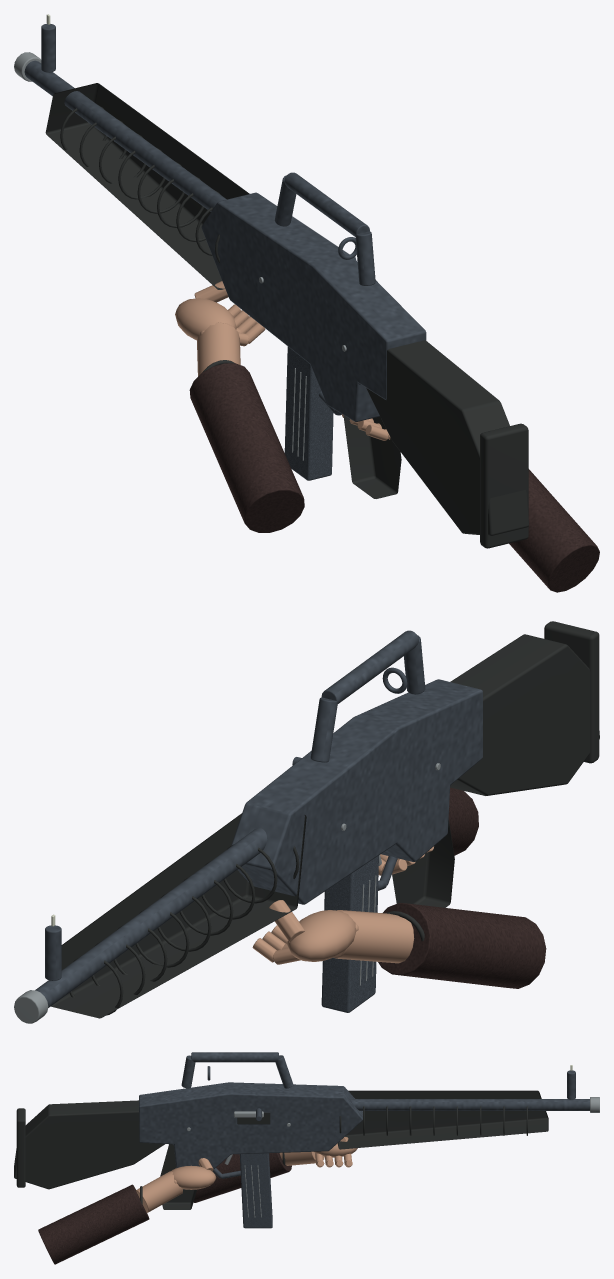
3 renders of one model, top to bottom at view 1: azimuth 30°, elevation 25°; view 2: azimuth 150°, elevation 25°; view 3: azimuth 270°, elevation 25°, orthographic. The views are drawn at different scales.
Parts seen in each view (by area): view 1: m16__BODY, m16__HAND_L, m16__HAND_R, m16__MAGAZINE; view 2: m16__BODY, m16__HAND_L, m16__MAGAZINE, m16__HAND_R; view 3: m16__BODY, m16__HAND_R, m16__HAND_L, m16__MAGAZINE.
Boxes of the visible parts, x1=… form: m16__BODY: x1=14, y1=14, x2=528, y2=548; m16__HAND_L: x1=175, y1=281, x2=304, y2=532; m16__HAND_R: x1=342, y1=414, x2=599, y2=592; m16__MAGAZINE: x1=284, y1=346, x2=333, y2=480; m16__BODY: x1=14, y1=621, x2=599, y2=1023; m16__HAND_L: x1=252, y1=900, x2=546, y2=988; m16__MAGAZINE: x1=321, y1=855, x2=378, y2=1012; m16__HAND_R: x1=378, y1=787, x2=478, y2=875; m16__BODY: x1=14, y1=1052, x2=599, y2=1209; m16__HAND_R: x1=38, y1=1158, x2=216, y2=1264; m16__HAND_L: x1=193, y1=1137, x2=357, y2=1202; m16__MAGAZINE: x1=239, y1=1153, x2=272, y2=1228.
Size of the model in its own units: 0.3294 by 0.4051 by 1.17.
Materials: 6 (2 with a texture image).
